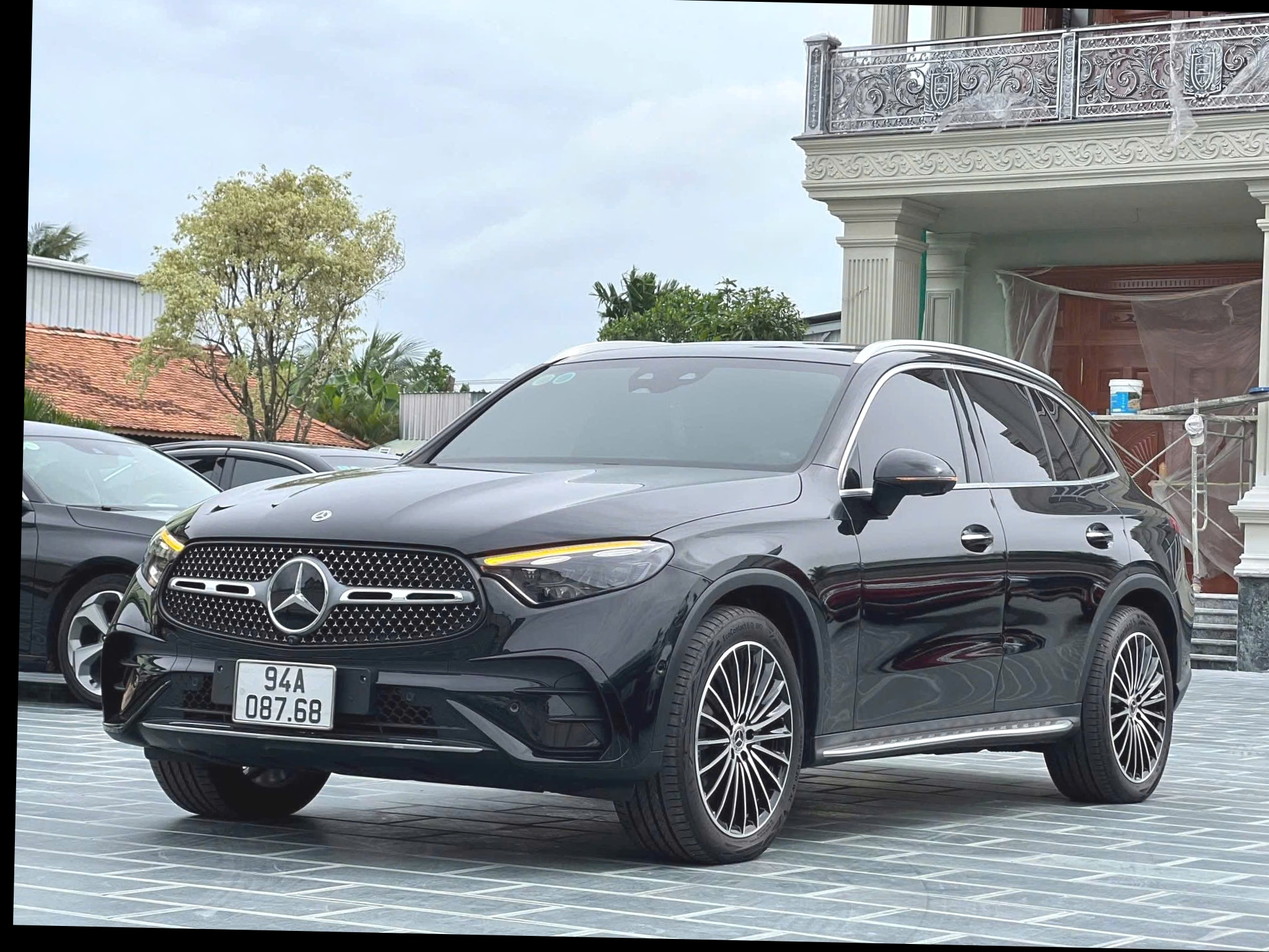Bien-so: (185, 667, 285, 741)
